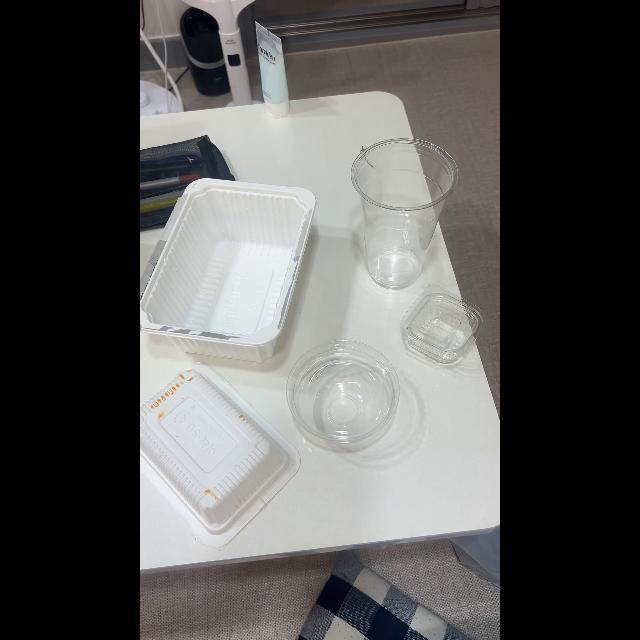clean: (140, 182, 316, 352), (353, 138, 457, 288), (287, 341, 401, 445), (402, 290, 484, 362)
dirty: (140, 369, 284, 526)
